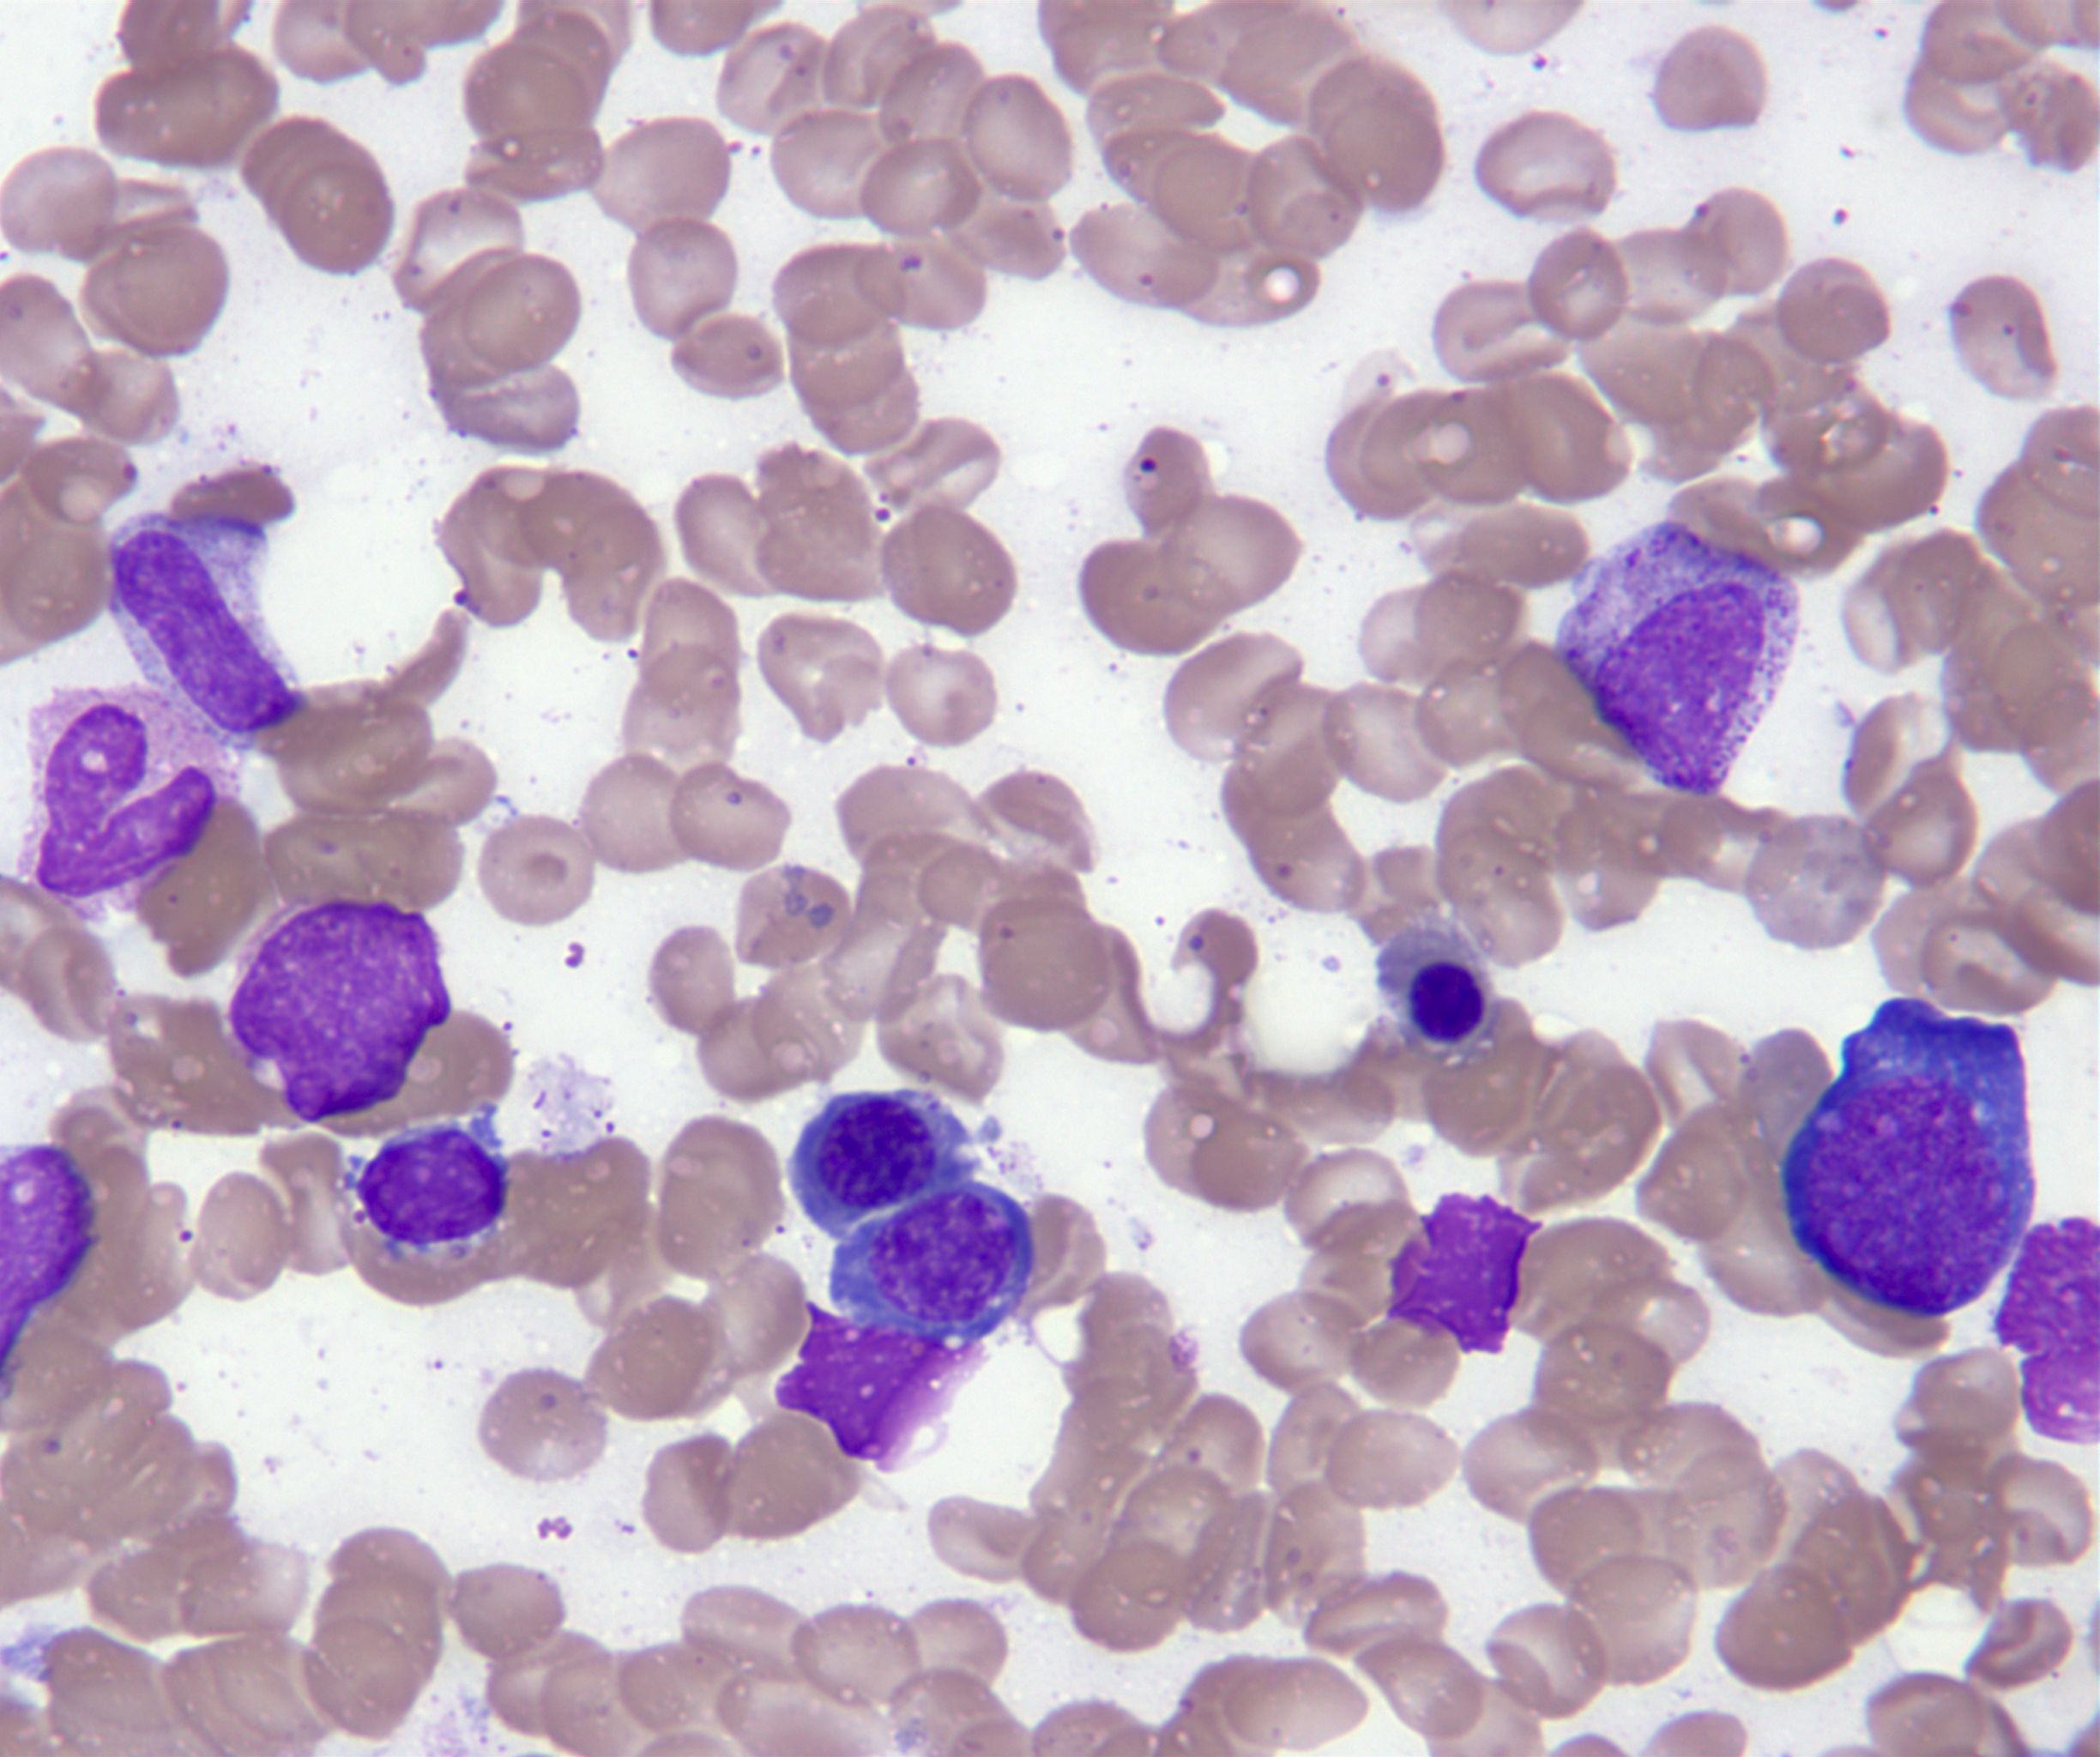22: (1783, 1000, 2039, 1317)
23: (785, 1087, 999, 1241), (832, 1179, 1033, 1343)
24: (1374, 909, 1497, 1059)
3: (1554, 522, 1798, 796), (106, 513, 307, 750)
32: (344, 1103, 509, 1263)
5: (14, 682, 244, 923)
x: (228, 900, 453, 1124), (776, 1302, 989, 1476), (1388, 1193, 1544, 1354), (0, 1141, 96, 1394), (1995, 1216, 2100, 1446)
